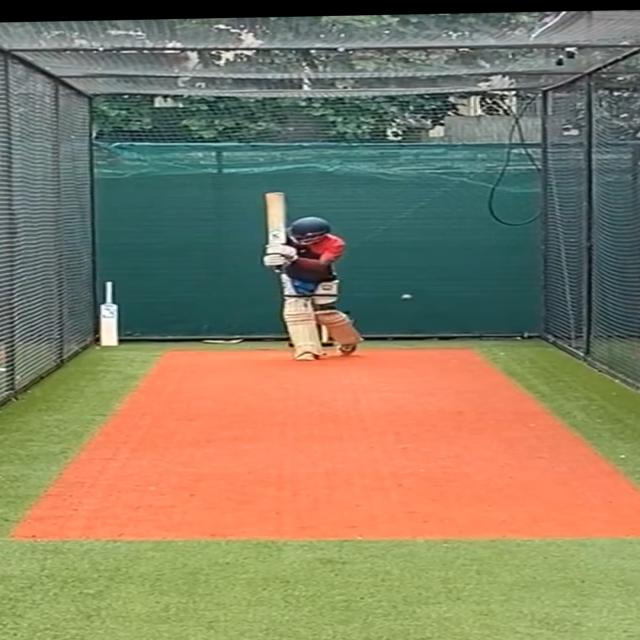ball: (394, 289, 418, 303)
